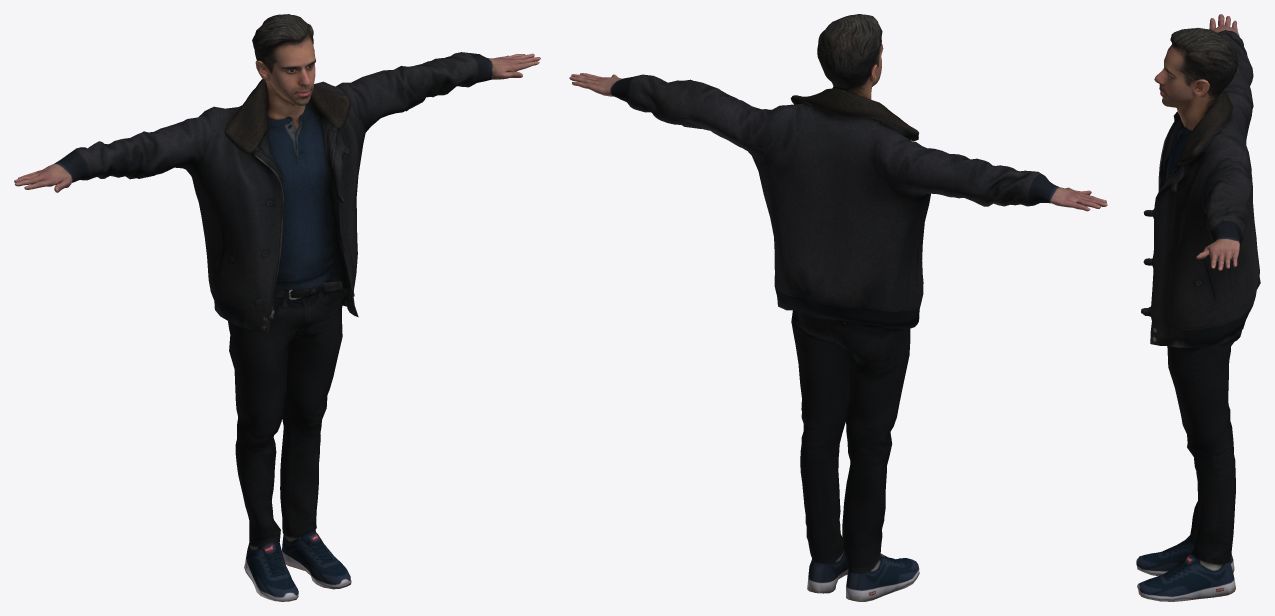
The model's file is jarvis-male.glb.
The picture shows the model from 3 angles, left to right: view 1: azimuth 30°, elevation 25°; view 2: azimuth 150°, elevation 25°; view 3: azimuth 270°, elevation 25°; orthographic projection. The views are drawn at different scales.
Parts seen in each view (by area): view 1: Cesar_D_LaTorre_Jacket; view 2: Cesar_D_LaTorre_Jacket; view 3: Cesar_D_LaTorre_Jacket.
Boxes of the visible parts, x1=… form: Cesar_D_LaTorre_Jacket: x1=14, y1=14, x2=540, y2=601; Cesar_D_LaTorre_Jacket: x1=569, y1=14, x2=1107, y2=601; Cesar_D_LaTorre_Jacket: x1=1136, y1=14, x2=1260, y2=601.
Bounding box in the file's own units: 1.82 × 1.84 × 0.3762.
Materials: 1 (1 with a texture image).
